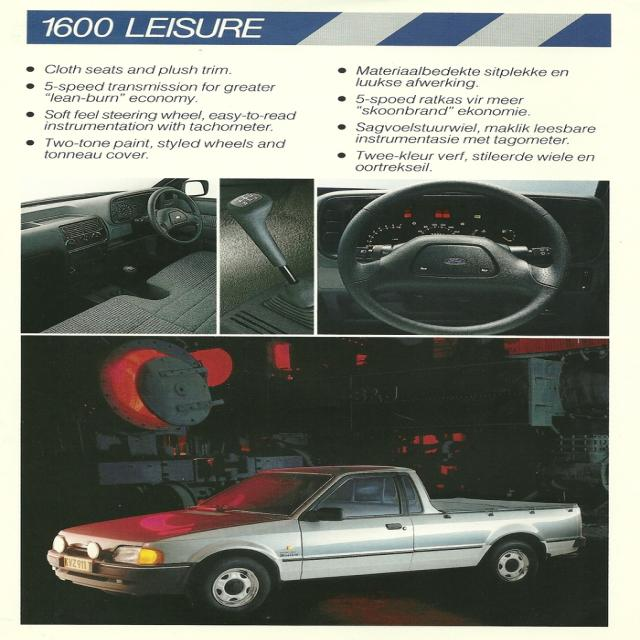car: (50, 461, 577, 614)
